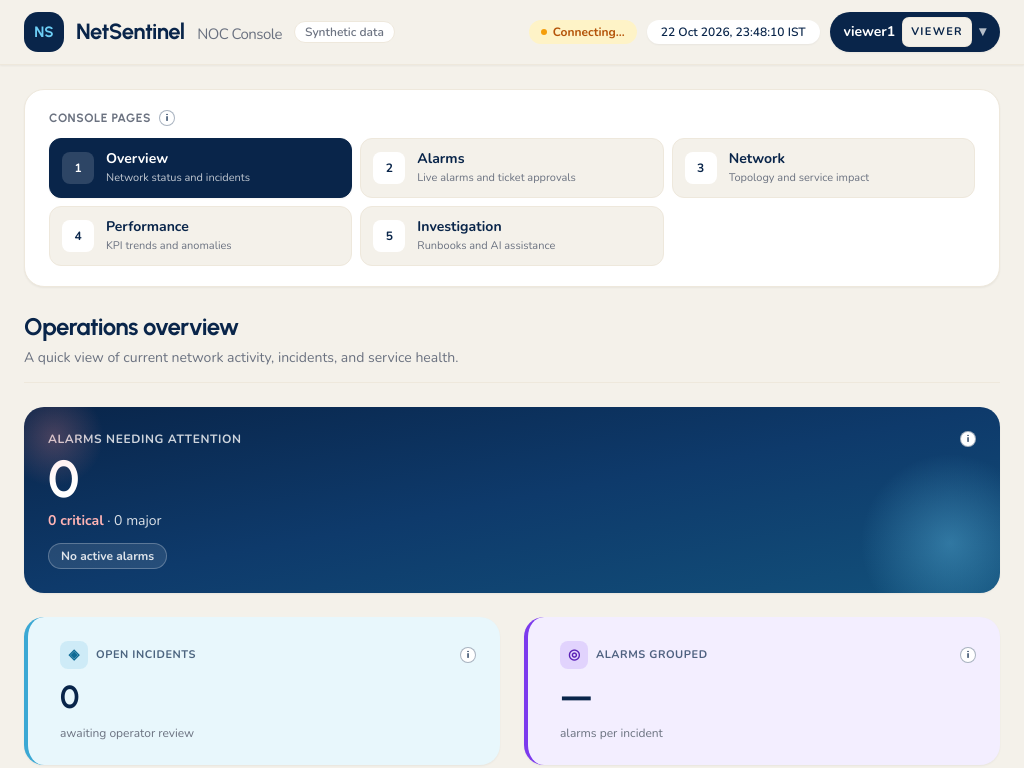
Scenario: multi-agent copilot (Step 17) › viewer reads the trace but cannot approve
This screenshot has width=1024, height=768.
Click the button with aria-label "Investigation:": click(512, 236) top-left (360, 206), bottom-right (664, 266)
(page scrolled)
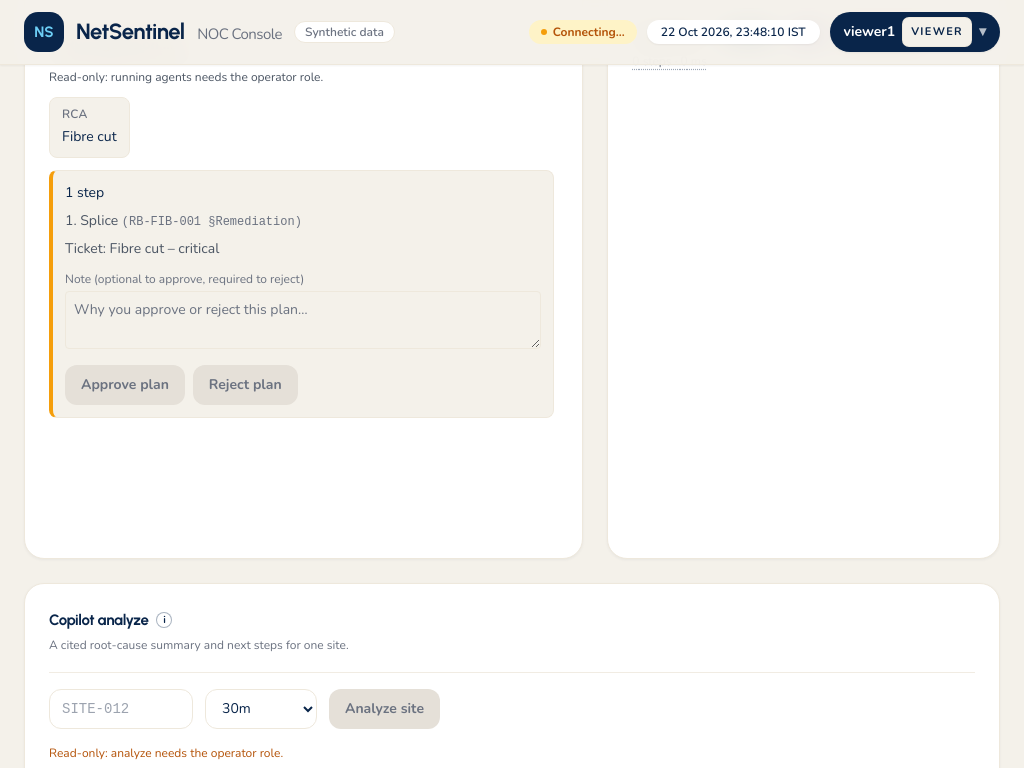
Result: the element with test id "approval-box" is shown at top-left (49, 170), bottom-right (554, 418)
Result: the button "Approve plan" is disabled at top-left (65, 364), bottom-right (185, 404)
